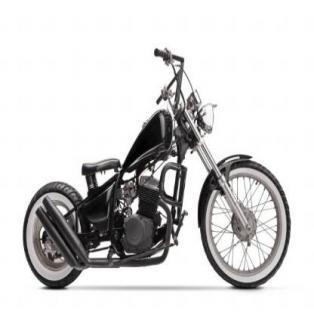Motocicleta: (21, 35, 292, 293)
